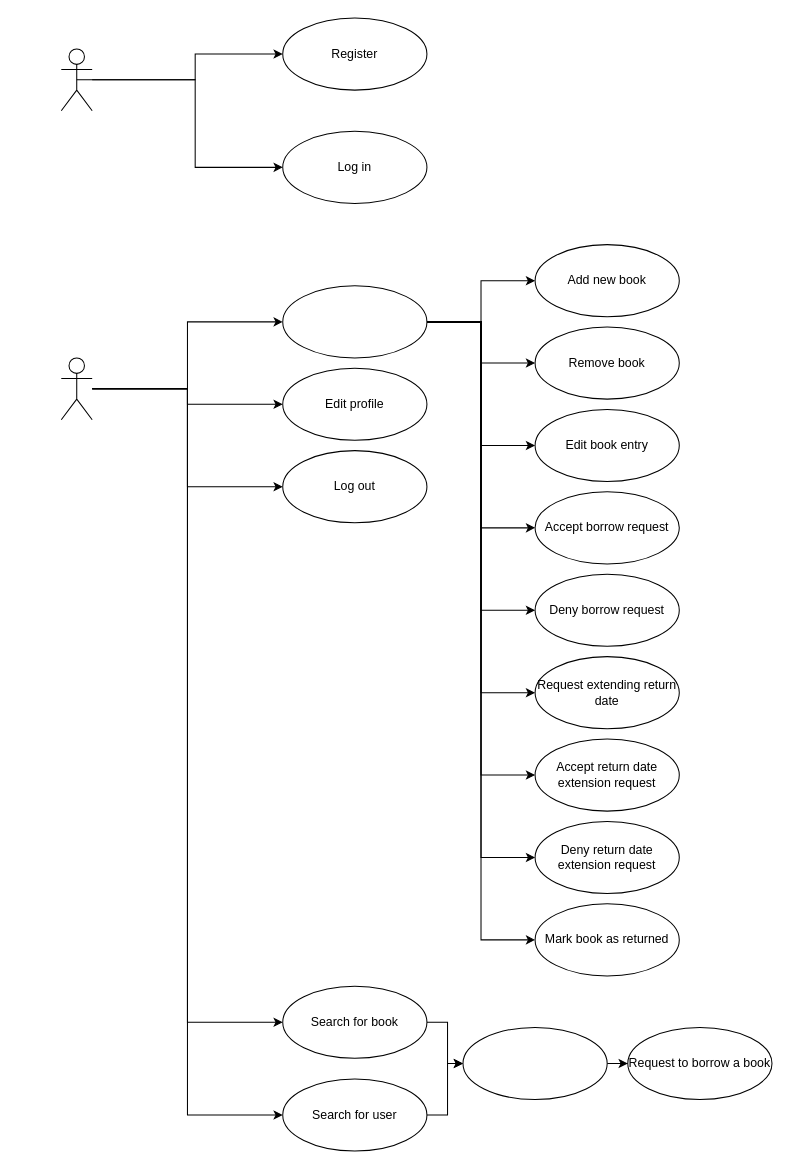
The diagram is 790 pixels wide and 1169 high, and some of its shapes have lost their labels. Here are the shapes that lost their labels. From the top down, the box of each, then its label:
(60, 48, 92, 111): Guest (Not logged in)
(282, 285, 427, 358): Browse your collection
(60, 357, 92, 420): User
(462, 1026, 607, 1100): Browse other's collection
